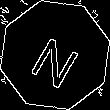N_NE: (25, 23, 85, 87)
